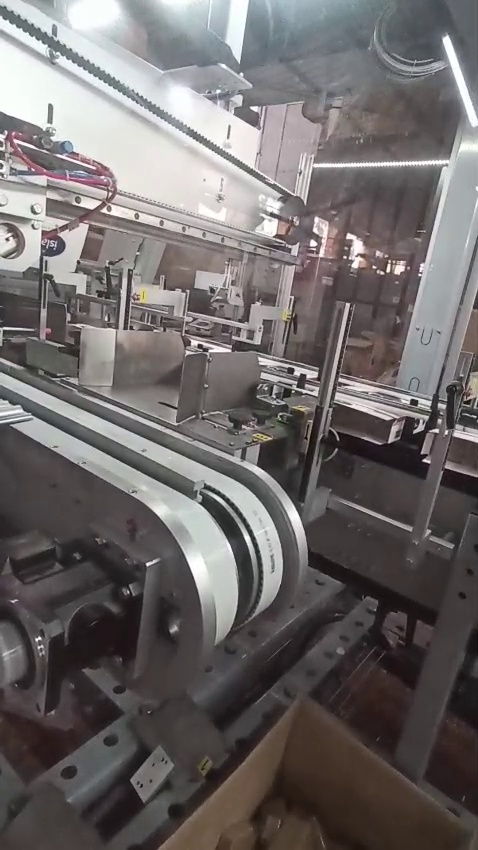savon: (161, 704, 478, 850), (193, 756, 216, 784), (293, 407, 312, 436), (379, 343, 392, 376), (252, 433, 278, 445), (463, 334, 478, 354), (137, 288, 148, 305)
